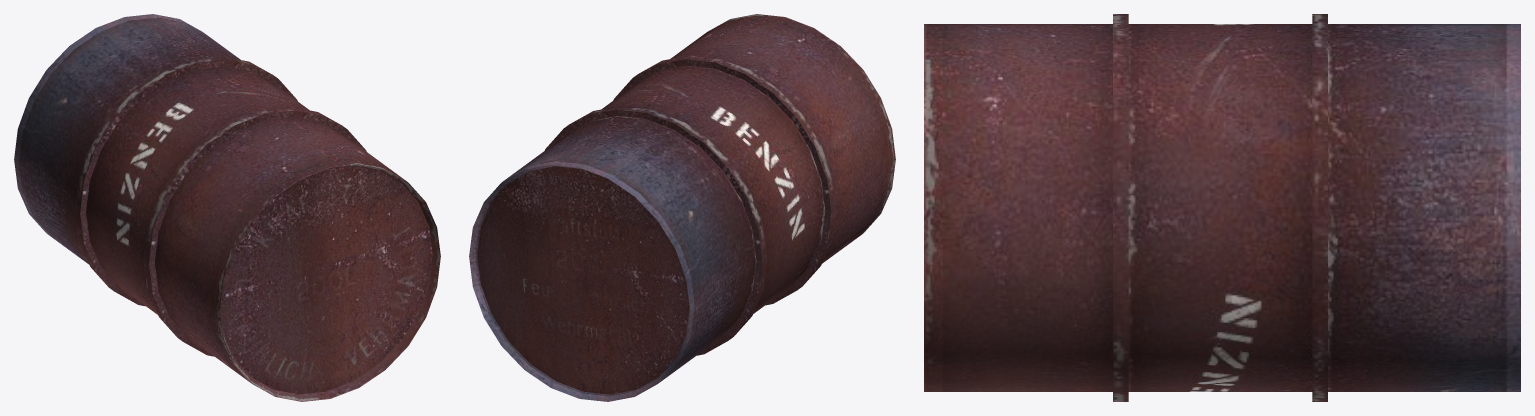
File: prop_barrel_benzin.glb
3 renders of one model, left to right at view 1: azimuth 30°, elevation 25°; view 2: azimuth 150°, elevation 25°; view 3: azimuth 270°, elevation 25°, orthographic. The views are drawn at different scales.
Bounding box in the file's own units: 28.93 × 28.93 × 44.32.
Materials: 1 (1 with a texture image).
